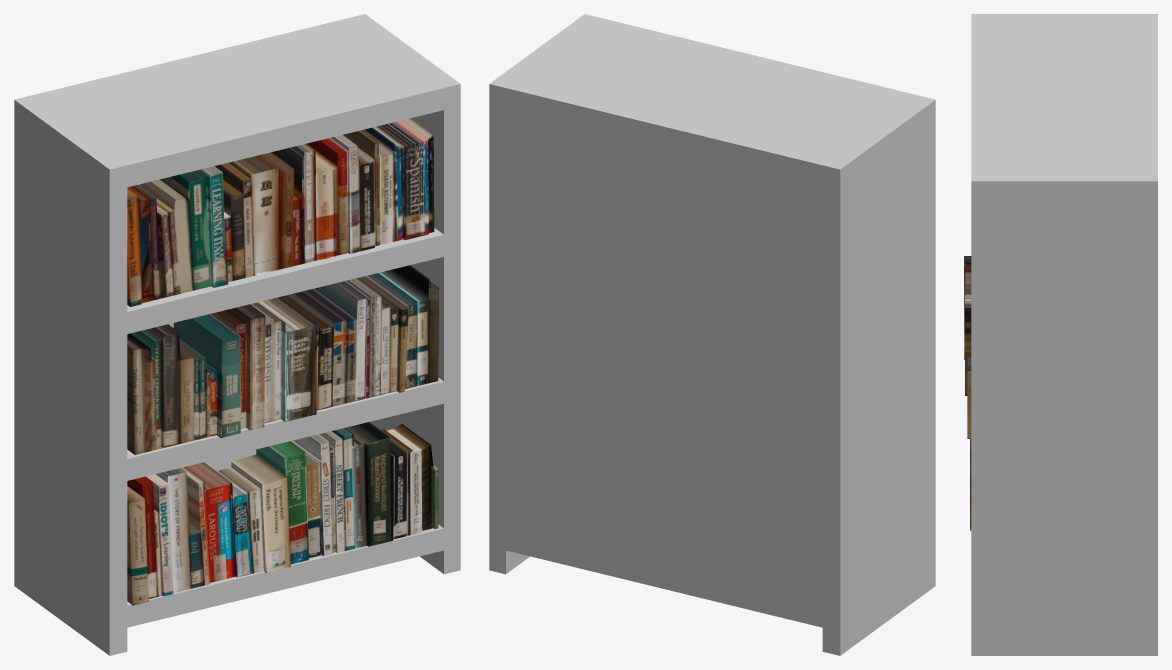
Rendered from Bookshelf.fbx.
The picture shows the model from 3 angles, left to right: view 1: azimuth 30°, elevation 25°; view 2: azimuth 150°, elevation 25°; view 3: azimuth 270°, elevation 25°; orthographic projection. The views are drawn at different scales.
Parts seen in each view (by area): view 1: Shelf, Row 2, Row 1, Row 3; view 2: Shelf; view 3: Shelf, Row 2.
Part boxes in pixels (<box>): Shelf: <box>14,14,460,655</box>; Row 2: <box>127,265,439,454</box>; Row 1: <box>127,422,438,605</box>; Row 3: <box>127,118,434,306</box>; Shelf: <box>489,14,935,655</box>; Shelf: <box>971,14,1157,655</box>; Row 2: <box>964,256,971,438</box>.
Bounding box in the file's own units: 180 × 238 × 87.94.
Materials: 1 (1 with a texture image).
